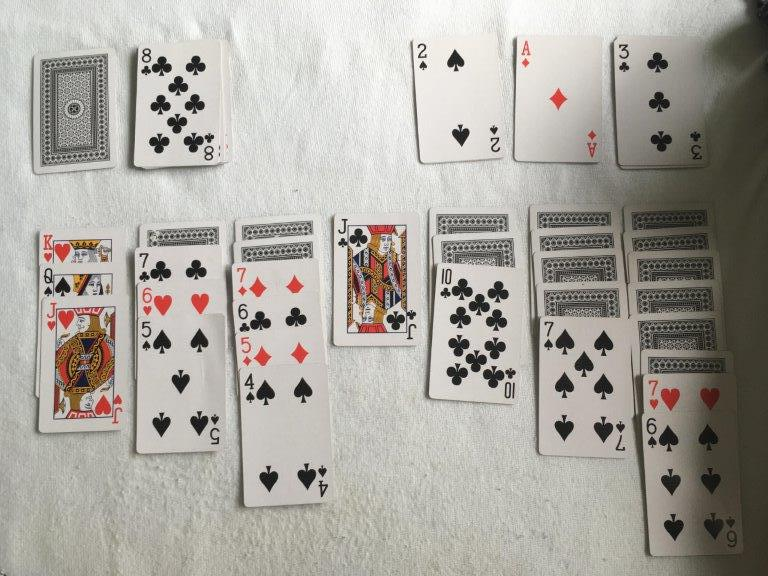!S: (41, 265, 53, 299)
10C: (437, 264, 456, 302)
2S: (414, 40, 432, 72)
3C: (614, 41, 633, 74)
4S: (240, 368, 257, 405)
5D: (238, 334, 255, 368)
5S: (139, 317, 154, 352)
6C: (234, 301, 253, 334)
6H: (139, 282, 155, 317)
6S: (643, 414, 663, 451)
7C: (136, 249, 151, 285)
7D: (233, 263, 251, 298)
7H: (645, 375, 662, 412)
7S: (541, 317, 558, 353)
8C: (138, 44, 153, 78)
AD: (517, 37, 536, 72)
BACK: (32, 47, 119, 175), (630, 311, 726, 349), (535, 280, 628, 315), (628, 278, 723, 312), (627, 248, 723, 280), (533, 247, 626, 280), (431, 230, 524, 262), (623, 201, 716, 226), (623, 224, 719, 248), (530, 224, 622, 249), (640, 348, 735, 372), (231, 233, 320, 258), (529, 203, 622, 226), (428, 206, 516, 230), (138, 220, 225, 244), (233, 212, 321, 231)
JC: (335, 215, 352, 250)
JH: (44, 299, 61, 333)
KH: (41, 230, 56, 266)
